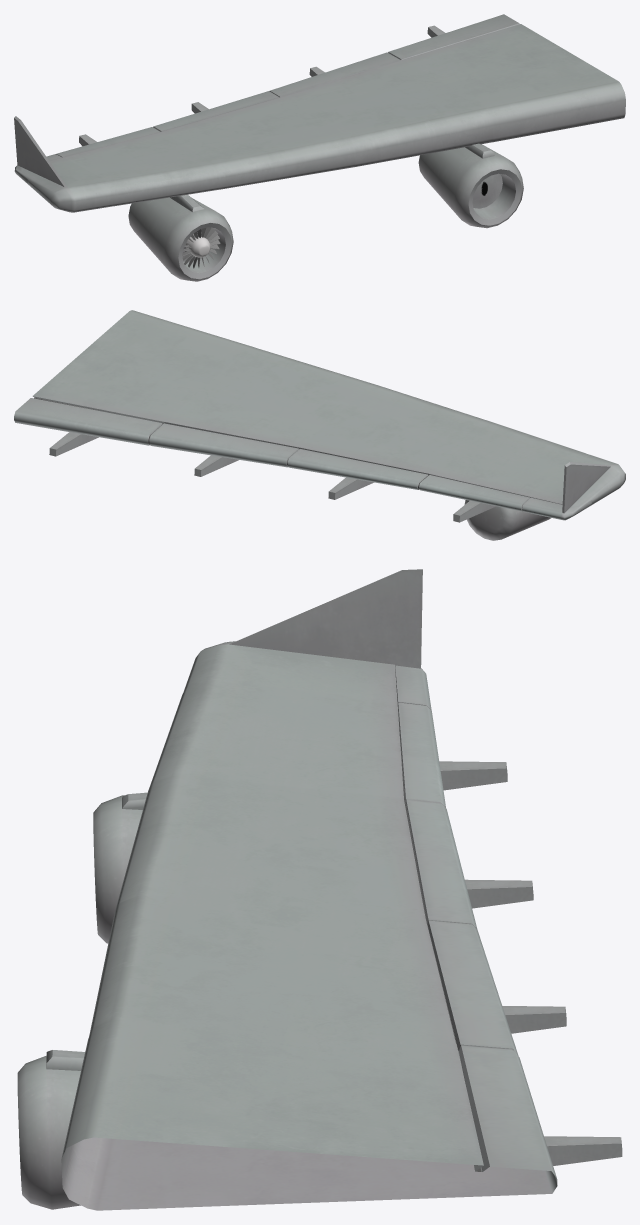
Rendered from plane_wing_startscreen.fbx.
The picture shows the model from 3 angles, top to bottom: view 1: azimuth 30°, elevation 25°; view 2: azimuth 150°, elevation 25°; view 3: azimuth 270°, elevation 25°; orthographic projection. The views are drawn at different scales.
Parts seen in each view (by area): view 1: env_asset_wing_aeroplane_large3; view 2: env_asset_wing_aeroplane_large3; view 3: env_asset_wing_aeroplane_large3.
Boxes of the visible parts, x1=… form: env_asset_wing_aeroplane_large3: x1=14, y1=14, x2=625, y2=281; env_asset_wing_aeroplane_large3: x1=14, y1=310, x2=625, y2=540; env_asset_wing_aeroplane_large3: x1=17, y1=569, x2=622, y2=1210.
Size of the model in its own units: 90.68 by 22.03 by 44.97.
